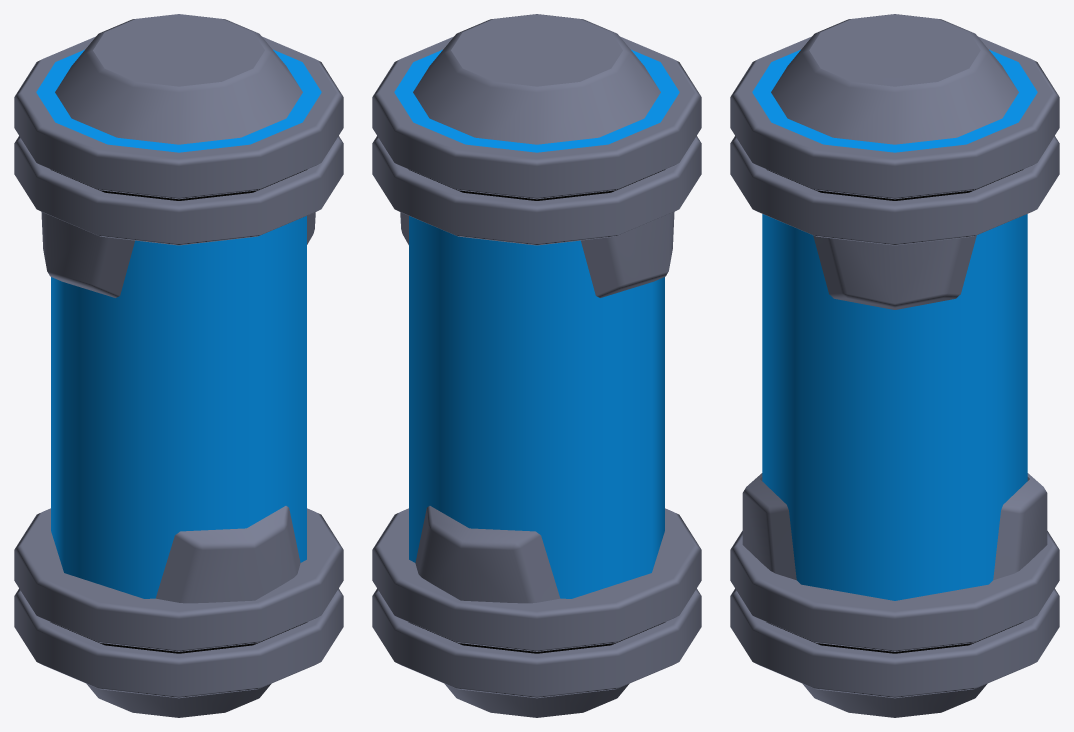
Rendered from NitrogenBomb.fbx.
3 views of the same model, side by side, from view 1: azimuth 30°, elevation 25°; view 2: azimuth 150°, elevation 25°; view 3: azimuth 270°, elevation 25° (orthographic).
Visible parts, largest first — view 1: Enemy_Skill_Nitrogenbomb; view 2: Enemy_Skill_Nitrogenbomb; view 3: Enemy_Skill_Nitrogenbomb.
Boxes of the visible parts, x1,y1,x2,y2 form: Enemy_Skill_Nitrogenbomb: (14,14,343,717); Enemy_Skill_Nitrogenbomb: (372,14,701,717); Enemy_Skill_Nitrogenbomb: (730,14,1059,717).
Size of the model in its own units: 0.0738 by 0.1563 by 0.0738.
Materials: 1 (1 with a texture image).
